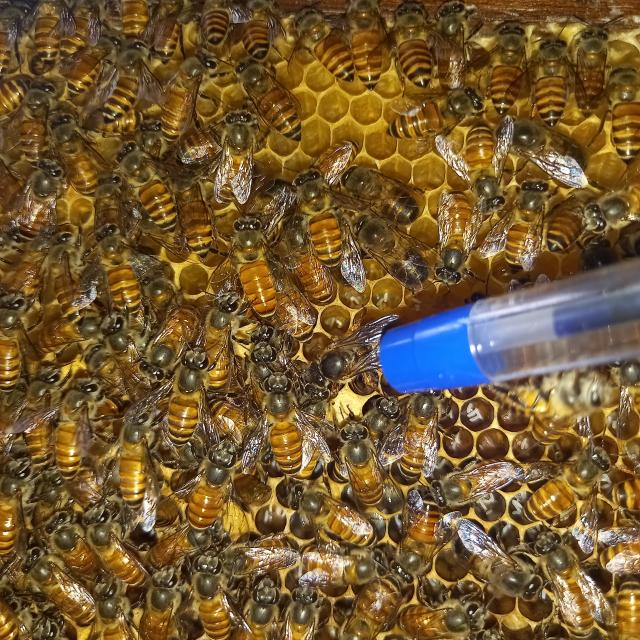honeybee: (490, 110, 602, 190), (380, 80, 492, 148), (529, 433, 610, 526), (223, 211, 287, 322), (531, 534, 597, 640), (231, 52, 305, 146), (154, 51, 218, 155), (347, 215, 430, 295), (172, 103, 252, 185), (114, 147, 180, 241), (284, 0, 354, 88), (342, 158, 433, 223), (431, 188, 485, 293), (280, 211, 332, 319), (337, 412, 389, 518), (292, 481, 366, 555), (294, 154, 344, 262), (193, 550, 252, 640), (431, 0, 484, 96), (96, 222, 152, 312), (86, 512, 154, 586), (420, 452, 530, 497), (397, 487, 449, 582), (289, 333, 379, 386), (253, 375, 300, 475), (189, 430, 240, 522), (33, 551, 89, 634), (105, 308, 161, 391), (165, 346, 212, 444), (395, 396, 448, 481), (103, 40, 148, 139), (458, 124, 510, 209), (530, 25, 572, 129), (222, 99, 264, 198), (390, 0, 436, 90), (348, 0, 389, 100), (54, 109, 99, 200), (66, 26, 112, 113), (116, 404, 151, 518), (12, 166, 59, 250), (11, 83, 58, 165), (60, 380, 94, 492), (348, 567, 400, 640), (0, 289, 37, 389), (148, 304, 198, 377), (301, 542, 377, 590), (539, 179, 587, 255), (493, 17, 529, 117), (173, 183, 220, 259), (612, 61, 640, 184), (50, 226, 86, 321), (46, 506, 92, 580), (404, 602, 492, 640), (0, 458, 34, 554), (223, 530, 301, 571), (577, 21, 611, 115), (582, 182, 640, 236), (142, 565, 182, 640), (241, 2, 286, 68), (151, 0, 194, 68), (24, 309, 85, 356), (501, 177, 536, 258), (26, 0, 71, 62), (195, 3, 245, 54), (92, 170, 126, 242), (86, 348, 127, 405), (87, 589, 132, 640), (287, 578, 319, 640), (611, 572, 640, 640), (246, 578, 276, 640), (601, 532, 640, 579), (0, 0, 22, 83), (117, 0, 150, 48), (605, 474, 640, 516), (0, 79, 32, 109), (0, 597, 17, 640)
